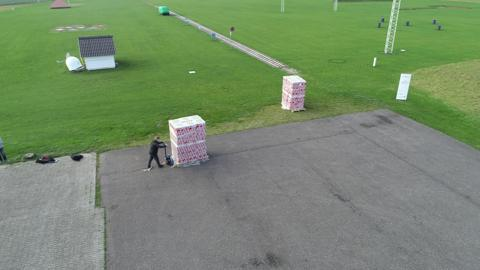RockwoolPallet: (168, 115, 209, 164)
